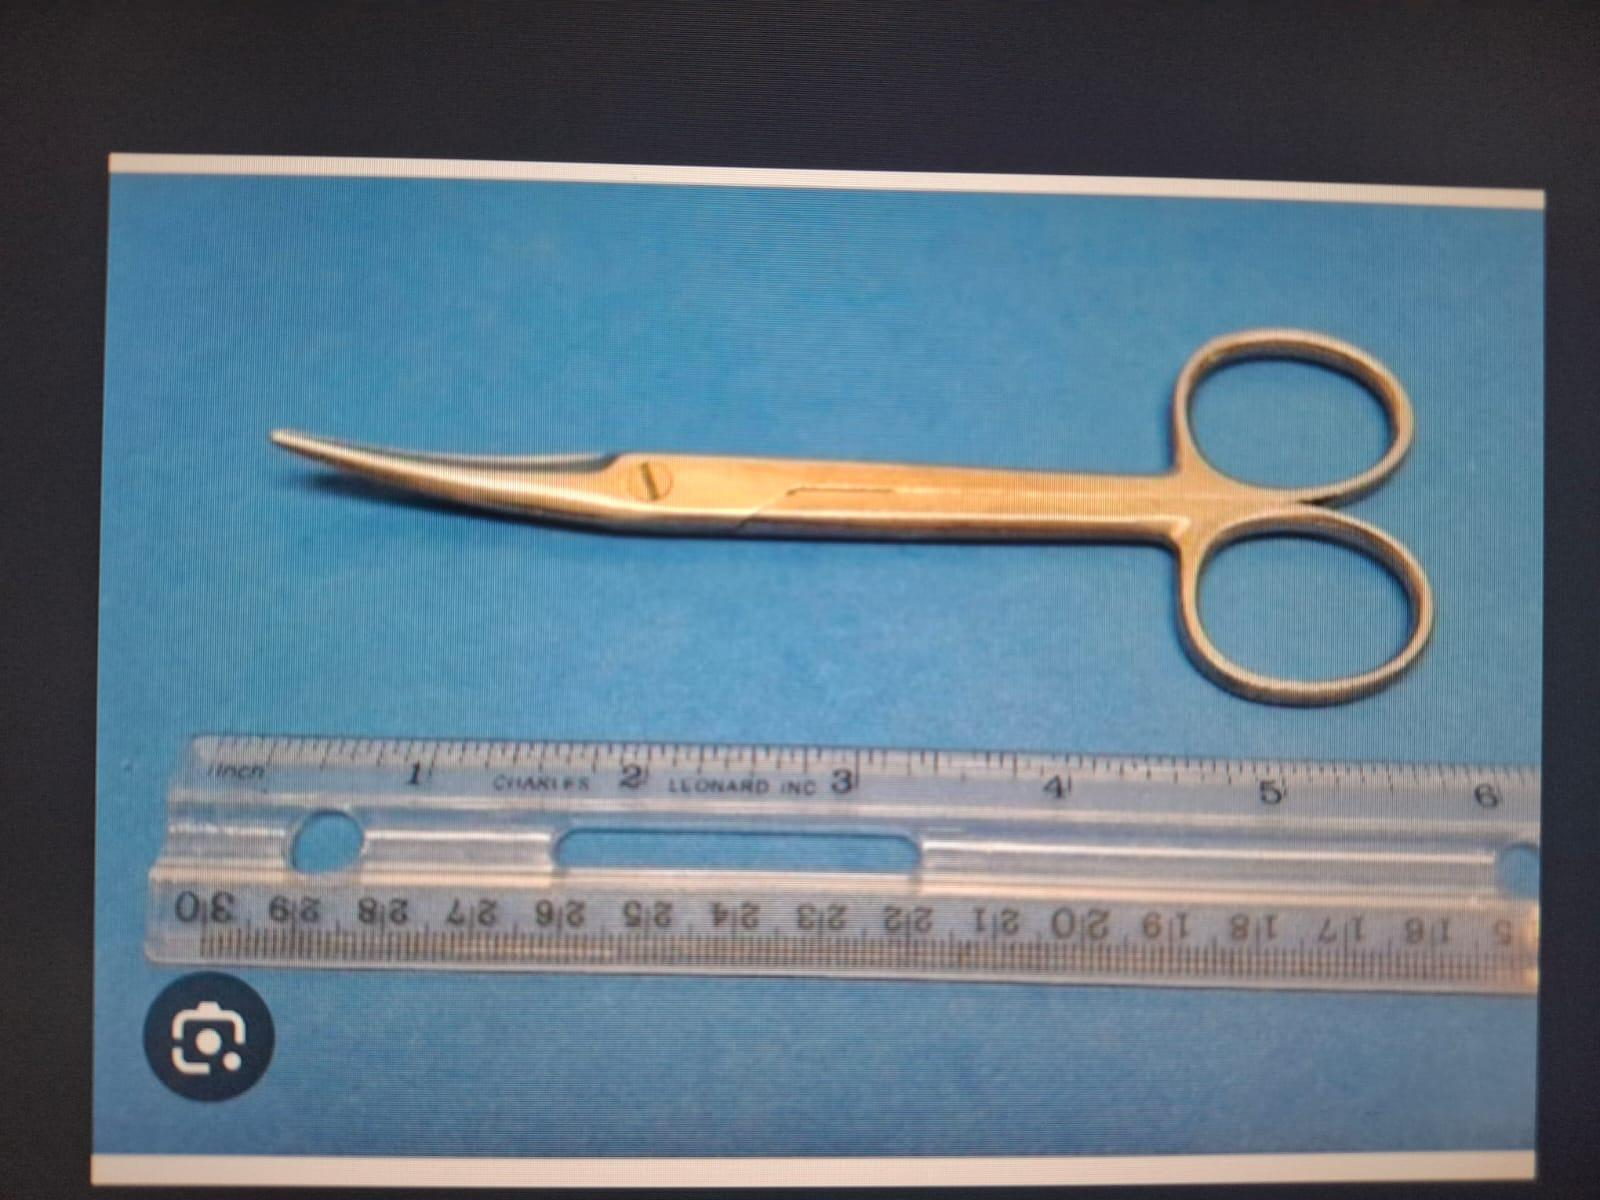Curved Mayo: (242, 320, 1458, 732)
